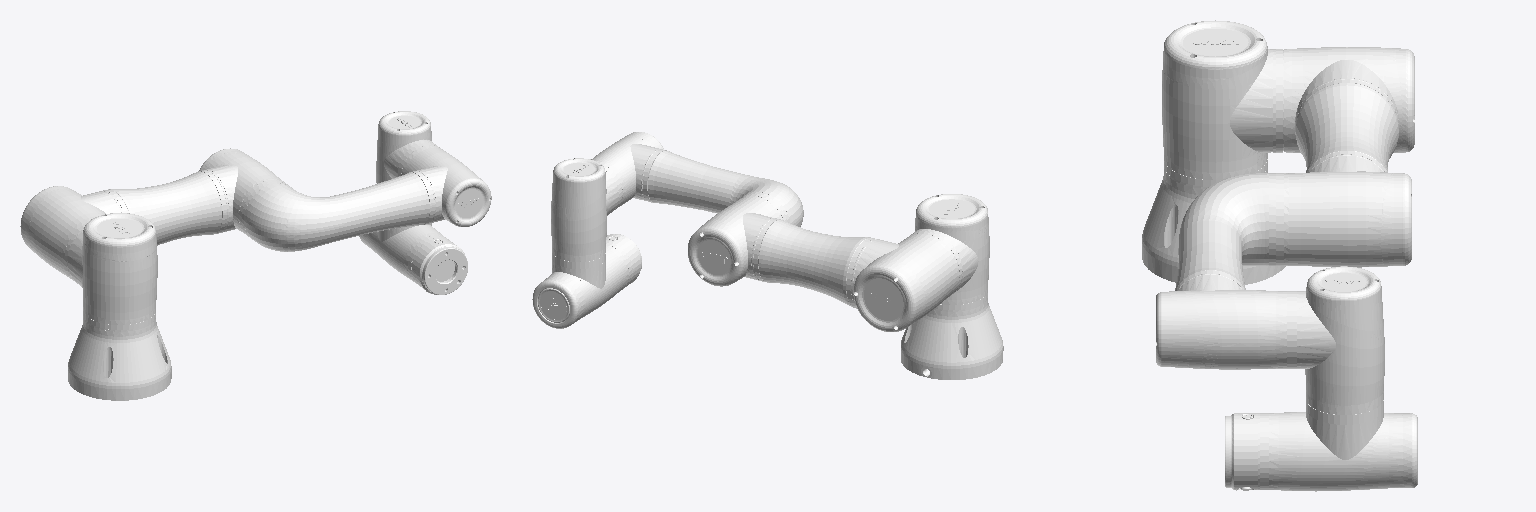
robot.urdf — Zu3:
<robot
  name="Zu3">
  <link
    name="base_link">
    <inertial>
      <origin
        xyz="-1.95690483413759E-05 -0.00173310503254305 -0.039882272878827"
        rpy="0 0 0" />
      <mass
        value="2.99589517250389" />
      <inertia
        ixx="0.0045688691265474"
        ixy="6.94206801829612E-07"
        ixz="-2.70287850851623E-06"
        iyy="0.00449361461372396"
        iyz="-3.92841672385431E-05"
        izz="0.00624031653552083" />
    </inertial>
    <visual>
      <origin
        xyz="0 0 0"
        rpy="0 0 0" />
      <geometry>
        <mesh
          filename="package://Zu3/meshes/base_link.STL" />
      </geometry>
      <material
        name="">
        <color
          rgba="1 1 1 1" />
      </material>
    </visual>
    <collision>
      <origin
        xyz="0 0 0"
        rpy="0 0 0" />
      <geometry>
        <mesh
          filename="package://Zu3/meshes/base_link.STL" />
      </geometry>
    </collision>
  </link>
  <link
    name="Link1">
    <inertial>
      <origin
        xyz="7.11263397335683E-06 0.00217822178706876 -0.0149669059830168"
        rpy="0 0 0" />
      <mass
        value="2.32744879445344" />
      <inertia
        ixx="0.00458147343407386"
        ixy="1.48173447266549E-05"
        ixz="-1.22875547954071E-06"
        iyy="0.00454359720683469"
        iyz="-3.06997251326517E-05"
        izz="0.00363214903311472" />
    </inertial>
    <visual>
      <origin
        xyz="0 0 0"
        rpy="0 0 0" />
      <geometry>
        <mesh
          filename="package://Zu3/meshes/1.STL" />
      </geometry>
      <material
        name="">
        <color
          rgba="1 1 1 1" />
      </material>
    </visual>
    <collision>
      <origin
        xyz="0 0 0"
        rpy="0 0 0" />
      <geometry>
        <mesh
          filename="package://Zu3/meshes/1.STL" />
      </geometry>
    </collision>
  </link>
  <joint
    name="J1"
    type="continuous">
    <origin
      xyz="0 0 0.0645"
      rpy="-1.2246E-16 -5.721E-32 -4.6716E-16" />
    <parent
      link="base_link" />
    <child
      link="Link1" />
    <axis
      xyz="0 0 1" />
  </joint>
  <link
    name="Link2">
    <inertial>
      <origin
        xyz="0.119793596970604 8.58639282073914E-06 -0.102397627385994"
        rpy="0 0 0" />
      <mass
        value="5.95378231056391" />
      <inertia
        ixx="0.0106282836293239"
        ixy="2.29382670166062E-05"
        ixz="-0.000911073241596094"
        iyy="0.0804164638556798"
        iyz="-2.47681280688607E-06"
        izz="0.0779892876387226" />
    </inertial>
    <visual>
      <origin
        xyz="0 0 0"
        rpy="0 0 0" />
      <geometry>
        <mesh
          filename="package://Zu3/meshes/2.STL" />
      </geometry>
      <material
        name="">
        <color
          rgba="1 1 1 1" />
      </material>
    </visual>
    <collision>
      <origin
        xyz="0 0 0"
        rpy="0 0 0" />
      <geometry>
        <mesh
          filename="package://Zu3/meshes/2.STL" />
      </geometry>
    </collision>
  </link>
  <joint
    name="J2"
    type="continuous">
    <origin
      xyz="0 0 0"
      rpy="1.5708 0 4.6716E-16" />
    <parent
      link="Link1" />
    <child
      link="Link2" />
    <axis
      xyz="0 0 1" />
  </joint>
  <link
    name="Link3">
    <inertial>
      <origin
        xyz="0.129240666536215 -9.0720152644122E-05 -0.014357405937694"
        rpy="0 0 0" />
      <mass
        value="2.99370623962181" />
      <inertia
        ixx="0.00375122418749307"
        ixy="3.0222385910835E-05"
        ixz="0.00143595144649744"
        iyy="0.0304577469052334"
        iyz="1.80724965262349E-06"
        izz="0.0293178341594524" />
    </inertial>
    <visual>
      <origin
        xyz="0 0 0"
        rpy="0 0 0" />
      <geometry>
        <mesh
          filename="package://Zu3/meshes/3.STL" />
      </geometry>
      <material
        name="">
        <color
          rgba="1 1 1 1" />
      </material>
    </visual>
    <collision>
      <origin
        xyz="0 0 0"
        rpy="0 0 0" />
      <geometry>
        <mesh
          filename="package://Zu3/meshes/3.STL" />
      </geometry>
    </collision>
  </link>
  <joint
    name="J3"
    type="continuous">
    <origin
      xyz="0.246 0 0"
      rpy="0 0 0" />
    <parent
      link="Link2" />
    <child
      link="Link3" />
    <axis
      xyz="0 0 1" />
  </joint>
  <link
    name="Link4">
    <inertial>
      <origin
        xyz="0.000241526484683341 -0.0325144102286034 0.00192585885719938"
        rpy="0 0 0" />
      <mass
        value="1.16925259073626" />
      <inertia
        ixx="0.00173057761809281"
        ixy="-5.81059937365353E-06"
        ixz="2.07389621178962E-06"
        iyy="0.000991339747095069"
        iyz="-8.39621020255761E-05"
        izz="0.00170641007481186" />
    </inertial>
    <visual>
      <origin
        xyz="0 0 0"
        rpy="0 0 0" />
      <geometry>
        <mesh
          filename="package://Zu3/meshes/4.STL" />
      </geometry>
      <material
        name="">
        <color
          rgba="1 1 1 1" />
      </material>
    </visual>
    <collision>
      <origin
        xyz="0 0 0"
        rpy="0 0 0" />
      <geometry>
        <mesh
          filename="package://Zu3/meshes/4.STL" />
      </geometry>
    </collision>
  </link>
  <joint
    name="J4"
    type="continuous">
    <origin
      xyz="0.228 0 -0.113"
      rpy="0 0 0" />
    <parent
      link="Link3" />
    <child
      link="Link4" />
    <axis
      xyz="0 0 1" />
  </joint>
  <link
    name="Link5">
    <inertial>
      <origin
        xyz="0.000197046850542781 0.0226924862530863 -0.00183338030328768"
        rpy="0 0 0" />
      <mass
        value="1.30755746948789" />
      <inertia
        ixx="0.00285036503364272"
        ixy="2.02988590629697E-06"
        ixz="-2.9472432087774E-06"
        iyy="0.00109173403124772"
        iyz="-7.81744010215167E-05"
        izz="0.00282378446902515" />
    </inertial>
    <visual>
      <origin
        xyz="0 0 0"
        rpy="0 0 0" />
      <geometry>
        <mesh
          filename="package://Zu3/meshes/5.STL" />
      </geometry>
      <material
        name="">
        <color
          rgba="1 1 1 1" />
      </material>
    </visual>
    <collision>
      <origin
        xyz="0 0 0"
        rpy="0 0 0" />
      <geometry>
        <mesh
          filename="package://Zu3/meshes/5.STL" />
      </geometry>
    </collision>
  </link>
  <joint
    name="J5"
    type="continuous">
    <origin
      xyz="0 -0.1175 0"
      rpy="1.5708 -3.2245E-17 1.164E-16" />
    <parent
      link="Link4" />
    <child
      link="Link5" />
    <axis
      xyz="0 0 1" />
  </joint>
  <link
    name="Link6">
    <inertial>
      <origin
        xyz="-0.000117639495146871 -8.07001820749137E-05 -0.0132366598443958"
        rpy="0 0 0" />
      <mass
        value="0.507738406221693" />
      <inertia
        ixx="0.000208846698087936"
        ixy="-8.51820910180099E-07"
        ixz="1.66864867720948E-07"
        iyy="0.000211905205869407"
        iyz="-8.18043220133994E-07"
        izz="0.000360986690973954" />
    </inertial>
    <visual>
      <origin
        xyz="0 0 0"
        rpy="0 0 0" />
      <geometry>
        <mesh
          filename="package://Zu3/meshes/6.STL" />
      </geometry>
      <material
        name="">
        <color
          rgba="1 1 1 1" />
      </material>
    </visual>
    <collision>
      <origin
        xyz="0 0 0"
        rpy="0 0 0" />
      <geometry>
        <mesh
          filename="package://Zu3/meshes/6.STL" />
      </geometry>
    </collision>
  </link>
  <joint
    name="J6"
    type="continuous">
    <origin
      xyz="0 0.105 0"
      rpy="-1.5708 -1.164E-16 -3.2245E-17" />
    <parent
      link="Link5" />
    <child
      link="Link6" />
    <axis
      xyz="0 0 1" />
  </joint>
</robot>

--- Render facts (derived) ---
The picture shows the robot from 3 angles, left to right: view 1: azimuth 30°, elevation 25°; view 2: azimuth 150°, elevation 25°; view 3: azimuth 270°, elevation 25°; orthographic projection.
Model Zu3 with 7 links and 6 joints (6 continuous), rooted at base_link, posed all joints at 0.
Visible links, largest first — view 1: Link3, Link2, Link1, base_link, Link4, Link6, Link5; view 2: Link2, Link3, base_link, Link4, Link1, Link5, Link6; view 3: Link2, Link3, Link1, Link4, Link5, base_link, Link6.
Link boxes in pixels (x1=…): Link3: x1=244, y1=142, x2=491, y2=251; Link2: x1=20, y1=148, x2=288, y2=280; Link1: x1=68, y1=213, x2=157, y2=331; base_link: x1=68, y1=318, x2=171, y2=400; Link4: x1=376, y1=111, x2=435, y2=183; Link6: x1=411, y1=238, x2=467, y2=294; Link5: x1=359, y1=223, x2=448, y2=283; Link2: x1=688, y1=192, x2=962, y2=331; Link3: x1=591, y1=132, x2=803, y2=226; base_link: x1=901, y1=300, x2=1003, y2=379; Link4: x1=551, y1=158, x2=618, y2=268; Link1: x1=914, y1=194, x2=989, y2=311; Link5: x1=532, y1=240, x2=632, y2=328; Link6: x1=606, y1=234, x2=641, y2=286; Link2: x1=1269, y1=47, x2=1414, y2=267; Link3: x1=1156, y1=173, x2=1296, y2=369; Link1: x1=1162, y1=20, x2=1272, y2=188; Link4: x1=1297, y1=266, x2=1384, y2=424; Link5: x1=1258, y1=410, x2=1417, y2=491; base_link: x1=1142, y1=169, x2=1285, y2=284; Link6: x1=1225, y1=413, x2=1257, y2=490.
Bounding box of the posed robot: 0.5734 × 0.2415 × 0.2115 m (x, y, z).
7 mesh visuals loaded from 7 distinct referenced files (7 binary STL).